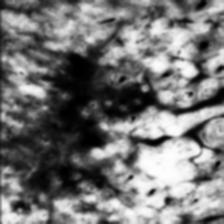Potentially Malignant Skin Tumors: (42, 43, 166, 168)
